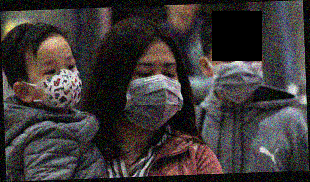with_mask: (122, 56, 183, 130), (210, 43, 264, 104), (28, 52, 83, 110)
